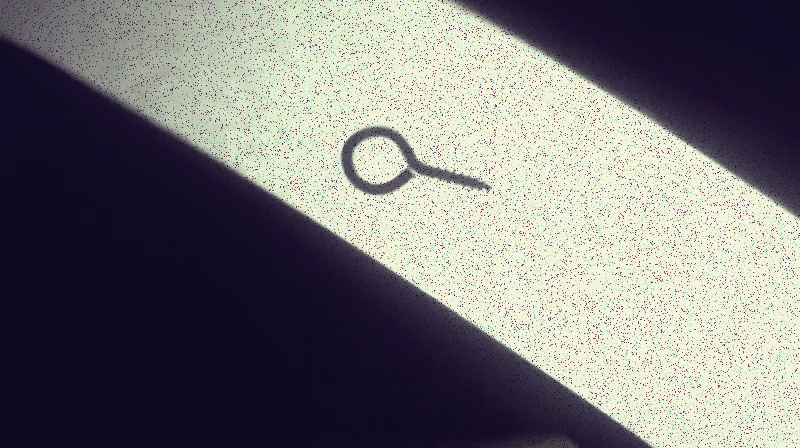O001: (338, 123, 496, 199)
